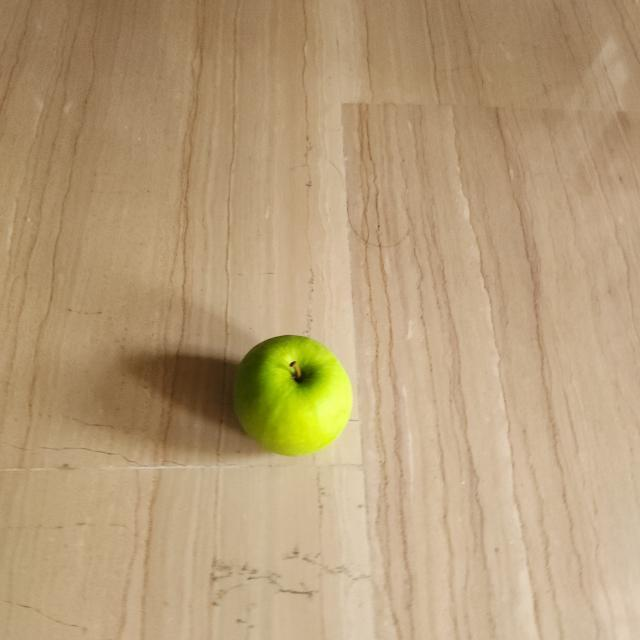apple: (223, 330, 358, 460)
